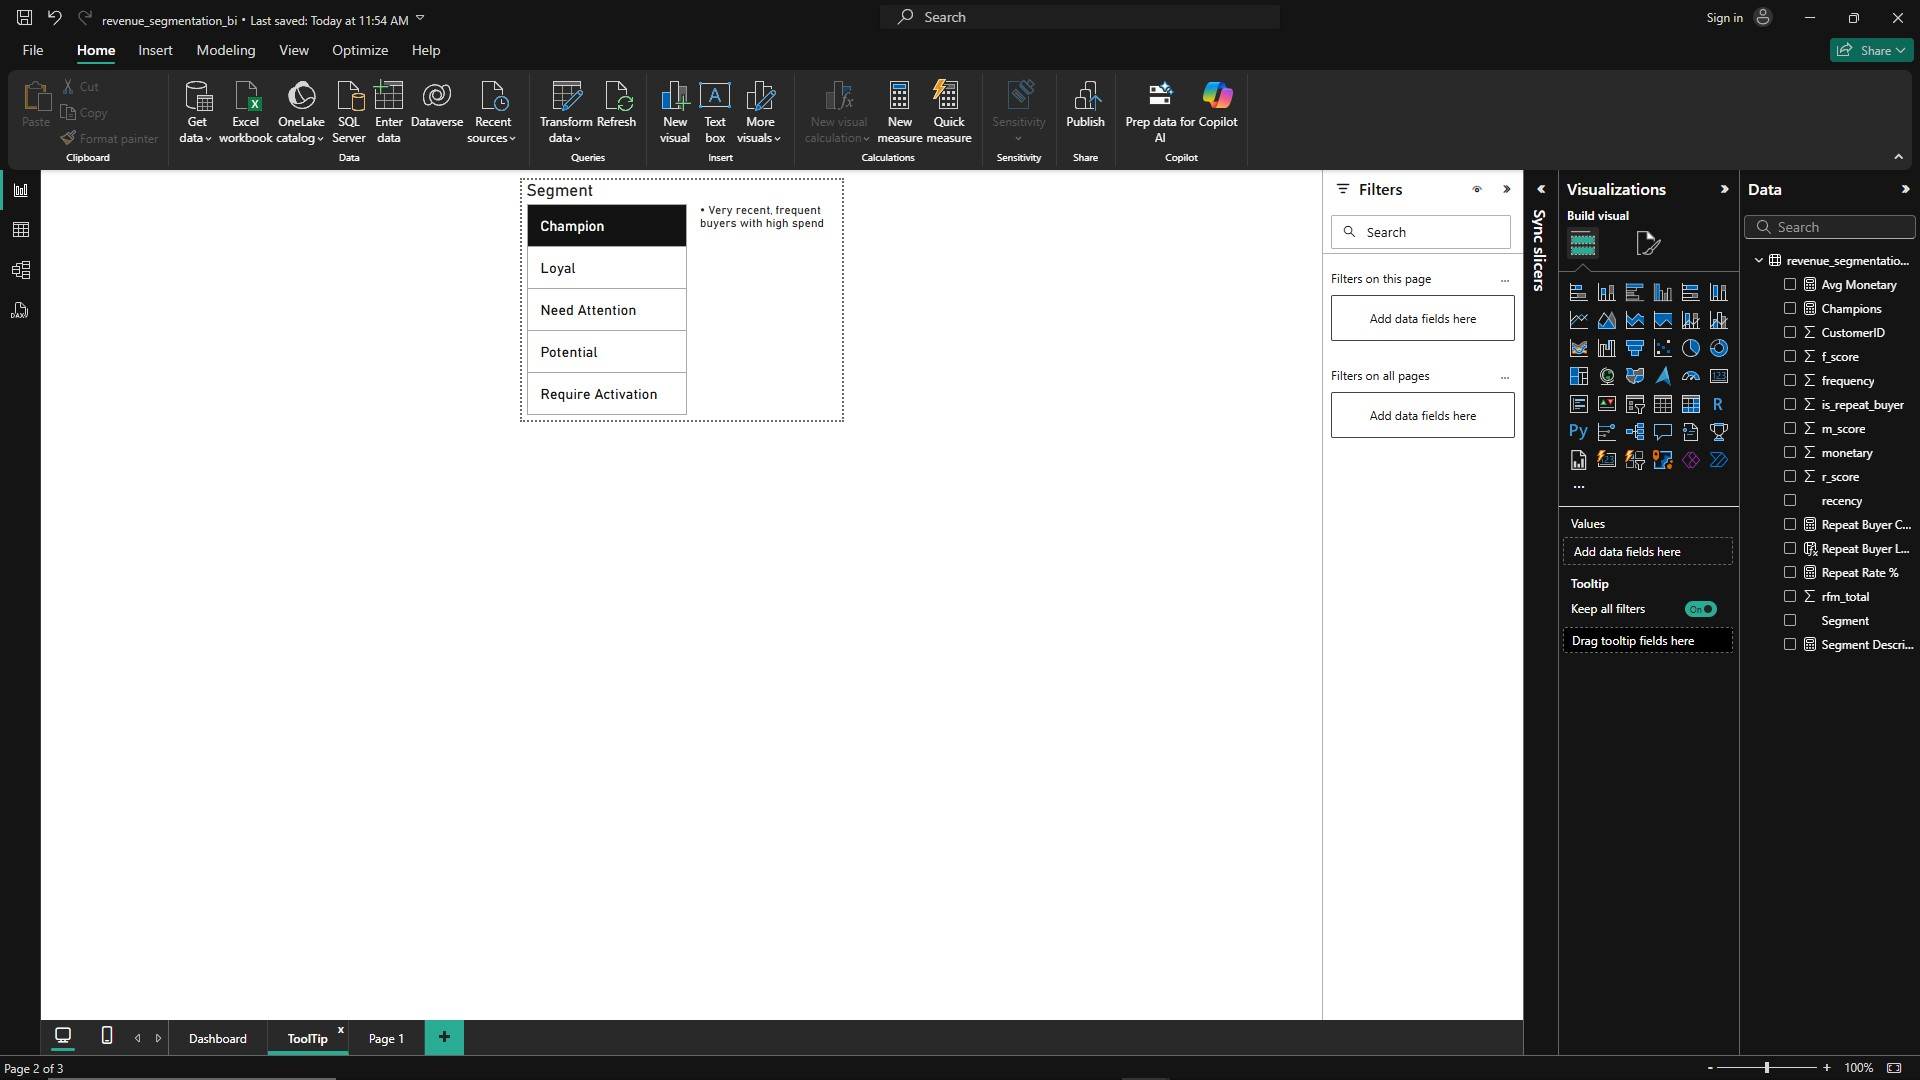

The dashboard page shown, as its layout file describes it:
{"tool":"powerbi","page":{"name":"ToolTip","canvas":[320,240],"ordinal":1},"visuals":[{"type":"card","fields":{"Values":["revenue_segmentation_sql_full.Segment Description"]},"box":[160,0,160,76],"z":0},{"type":"advancedSlicerVisual","fields":{"Values":["revenue_segmentation_sql_full.Segment"]},"box":[0,0,170,240],"z":1}]}

Visuals, with their boxes on the page's 320x240 design canvas (x1, y1, x2, y2). These are canvas units, not pixel positions in the 1920x1080 screenshot, which may show the page scaled, cropped or inside an application window:
card - revenue_segmentation_sql_full.Segment Description: box=[160, 0, 320, 76]
advancedSlicerVisual - revenue_segmentation_sql_full.Segment: box=[0, 0, 170, 240]
